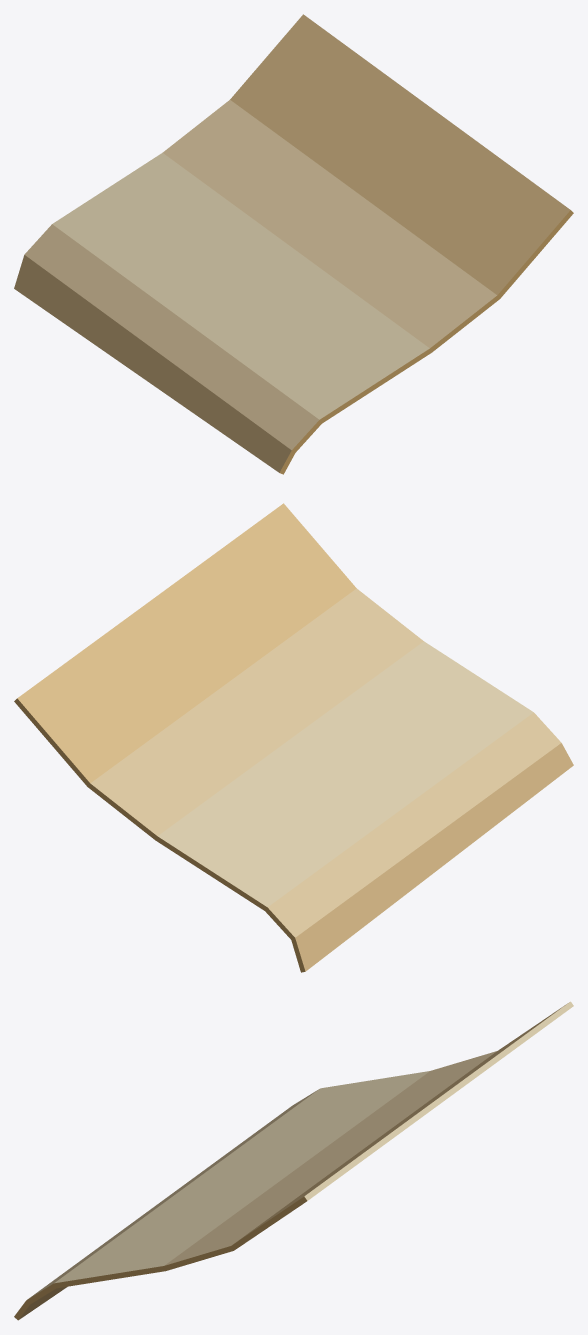
File: Prop_Page.fbx
3 views of the same model, one above another, from view 1: azimuth 30°, elevation 25°; view 2: azimuth 150°, elevation 25°; view 3: azimuth 330°, elevation 25° (orthographic).
Visible parts, largest first — view 1: Page; view 2: Page; view 3: Page.
Boxes of the visible parts, x1,y1,x2,y2 form: Page: (14,14,573,474); Page: (14,503,573,972); Page: (14,1001,573,1320).
Size of the model in its own units: 119 by 79.41 by 187.
